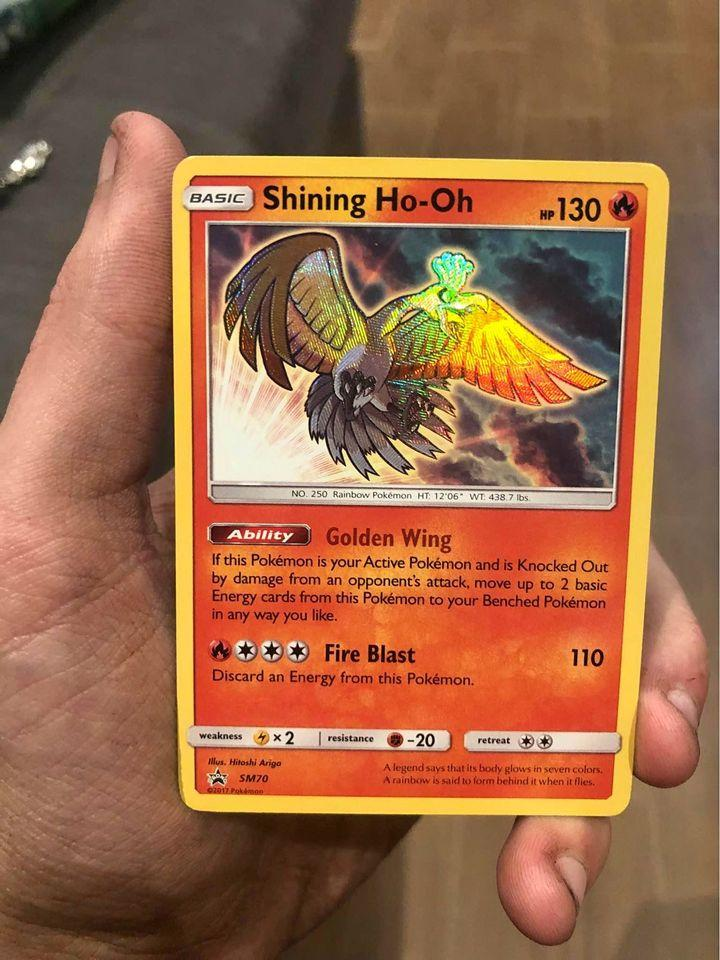card: (171, 153, 672, 818)
